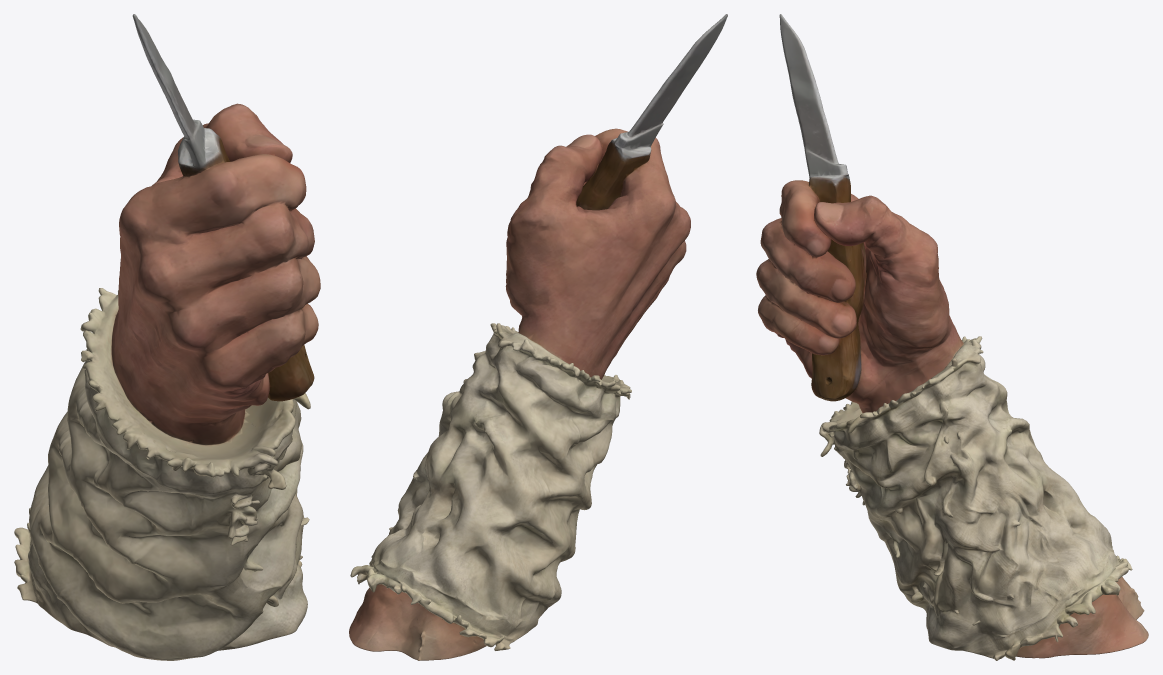
3 views of the same model, side by side, from view 1: azimuth 30°, elevation 25°; view 2: azimuth 150°, elevation 25°; view 3: azimuth 270°, elevation 25° (orthographic). The views are drawn at different scales.
Visible parts, largest first — view 1: tripo_node_56ebd29c-1b10-4627-ab60-fb4d298ba97b; view 2: tripo_node_56ebd29c-1b10-4627-ab60-fb4d298ba97b; view 3: tripo_node_56ebd29c-1b10-4627-ab60-fb4d298ba97b.
Boxes of the visible parts, x1,y1,x2,y2 form: tripo_node_56ebd29c-1b10-4627-ab60-fb4d298ba97b: (14, 14, 320, 660); tripo_node_56ebd29c-1b10-4627-ab60-fb4d298ba97b: (349, 14, 727, 660); tripo_node_56ebd29c-1b10-4627-ab60-fb4d298ba97b: (756, 14, 1148, 660).
Size of the model in its own units: 0.4528 by 1 by 0.6611.
1 material, 1 textured.
